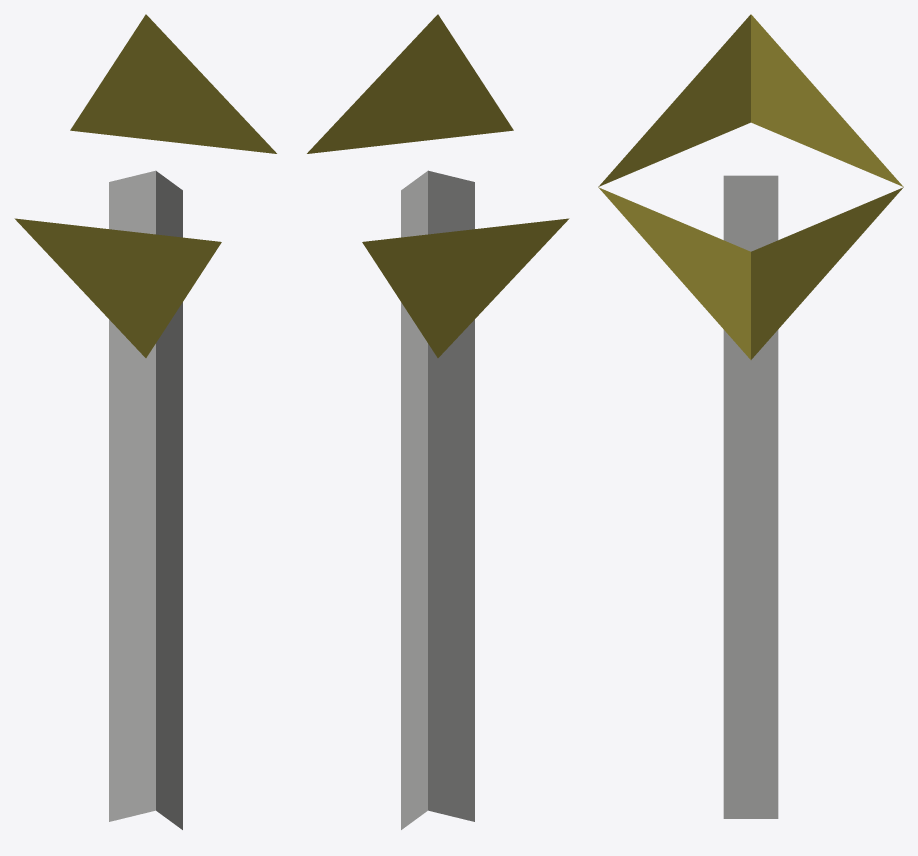
Rendered from junctionMarker.glb.
3 renders of one model, left to right at view 1: azimuth 30°, elevation 25°; view 2: azimuth 150°, elevation 25°; view 3: azimuth 270°, elevation 25°, orthographic.
Parts seen in each view (by area): view 1: asset; view 2: asset; view 3: asset.
Boxes of the visible parts, x1,y1,x2,y2 form: asset: [14, 14, 276, 829]; asset: [307, 14, 569, 829]; asset: [598, 14, 903, 818].
Bounding box in the file's own units: 0.56 × 1.65 × 0.56.
